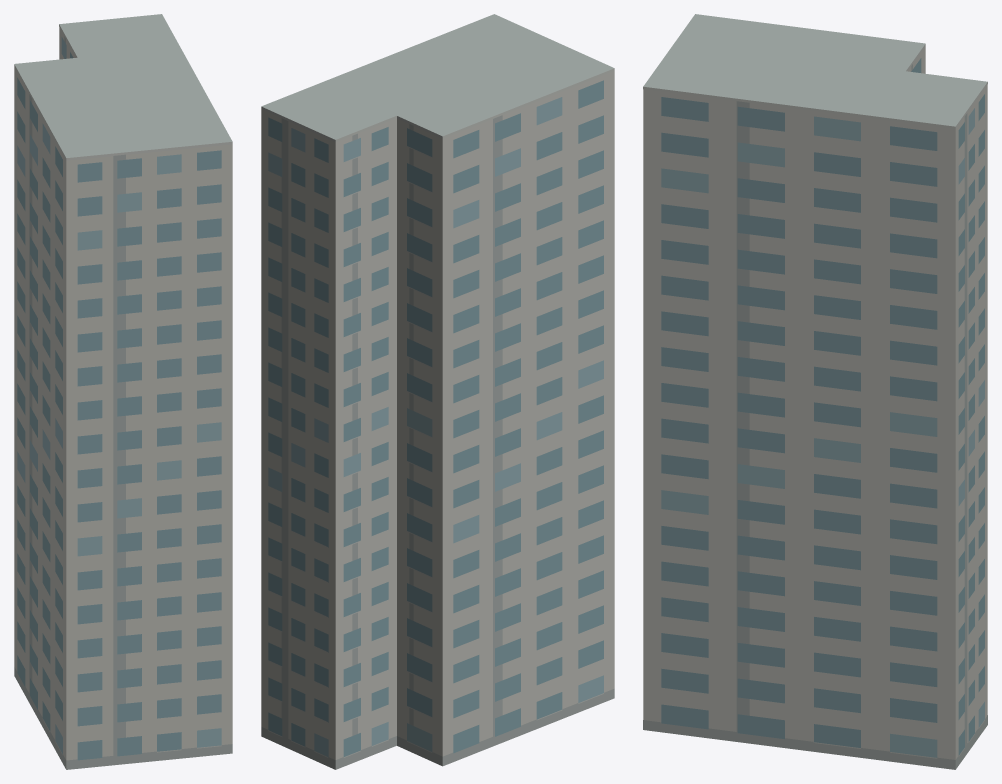
File: residential-56c6e238-8e69-4421-81a6-90e006a7771e.glb
3 renders of one model, left to right at view 1: azimuth 30°, elevation 25°; view 2: azimuth 150°, elevation 25°; view 3: azimuth 270°, elevation 25°, orthographic. The views are drawn at different scales.
Parts seen in each view (by area): view 1: residential-56c6e238-8e69-4421-81a6-90e006a7771e.tmp; view 2: residential-56c6e238-8e69-4421-81a6-90e006a7771e.tmp; view 3: residential-56c6e238-8e69-4421-81a6-90e006a7771e.tmp.
Boxes of the visible parts, left/top/right/bottom form: residential-56c6e238-8e69-4421-81a6-90e006a7771e.tmp: left=14, top=14, right=232, bottom=769; residential-56c6e238-8e69-4421-81a6-90e006a7771e.tmp: left=261, top=14, right=614, bottom=769; residential-56c6e238-8e69-4421-81a6-90e006a7771e.tmp: left=643, top=14, right=987, bottom=769.
Bounding box in the file's own units: 23.67 × 63 × 30.6.
